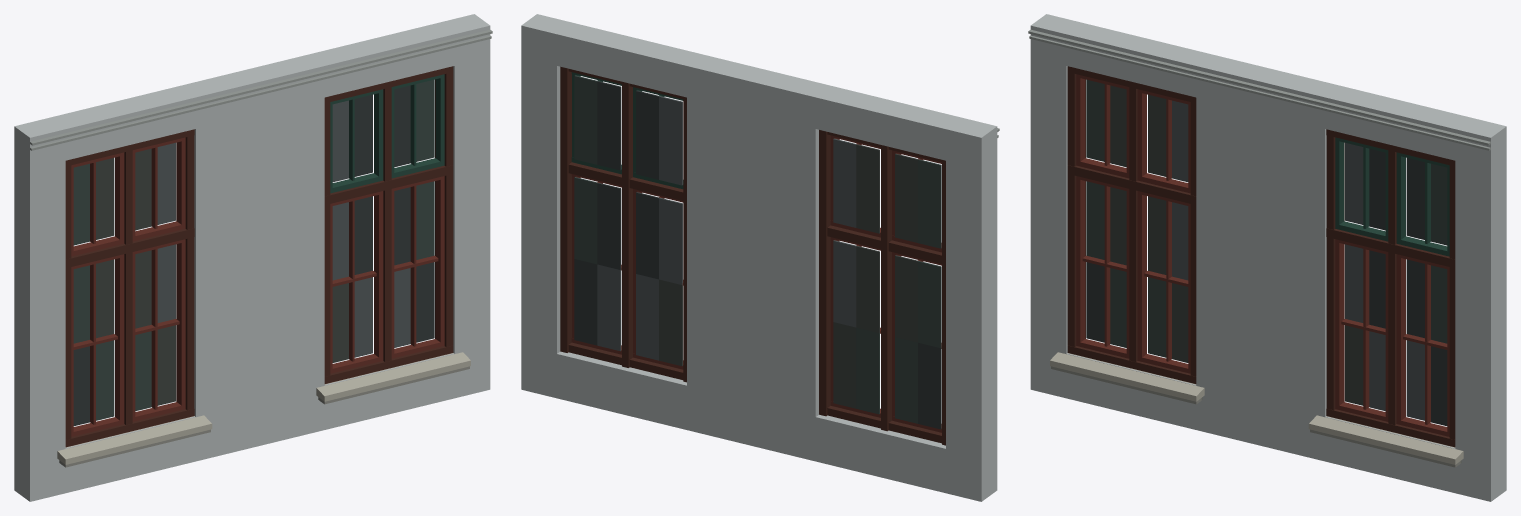
Rendered from huangpu-nanguan-customs-upper-timber-windows-lod.glb.
3 views of the same model, side by side, from view 1: azimuth 30°, elevation 25°; view 2: azimuth 150°, elevation 25°; view 3: azimuth 330°, elevation 25° (orthographic).
Visible parts, largest first — view 1: 江海南关办公楼临街二层红棕色木窗; view 2: 江海南关办公楼临街二层红棕色木窗; view 3: 江海南关办公楼临街二层红棕色木窗.
Boxes of the visible parts, bbox=[...] form: 江海南关办公楼临街二层红棕色木窗: bbox=[14, 14, 492, 501]; 江海南关办公楼临街二层红棕色木窗: bbox=[521, 14, 999, 501]; 江海南关办公楼临街二层红棕色木窗: bbox=[1028, 14, 1506, 501].
Size of the model in its own units: 3.36 by 2.54 by 0.303.
